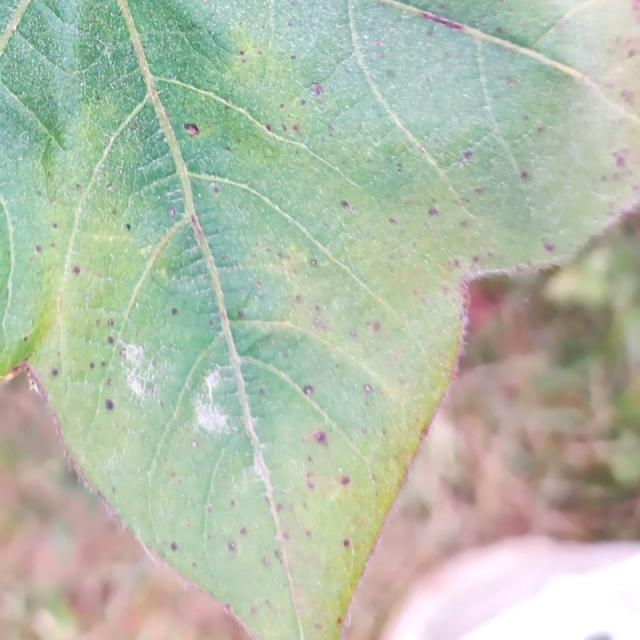Bacterial_Blight: (0, 0, 639, 639), (205, 342, 414, 635), (271, 14, 456, 211), (262, 189, 414, 345), (484, 72, 613, 233), (417, 114, 553, 232), (158, 69, 326, 164), (3, 146, 65, 383), (363, 0, 583, 56), (62, 233, 162, 338), (206, 247, 271, 407), (102, 2, 230, 82), (538, 0, 640, 94), (265, 8, 360, 101), (71, 4, 145, 83), (597, 47, 640, 162), (1, 161, 24, 364), (195, 260, 268, 323), (300, 407, 358, 481), (288, 174, 363, 225), (158, 242, 210, 283), (40, 132, 64, 179)
Cotton: (0, 0, 8, 6)
